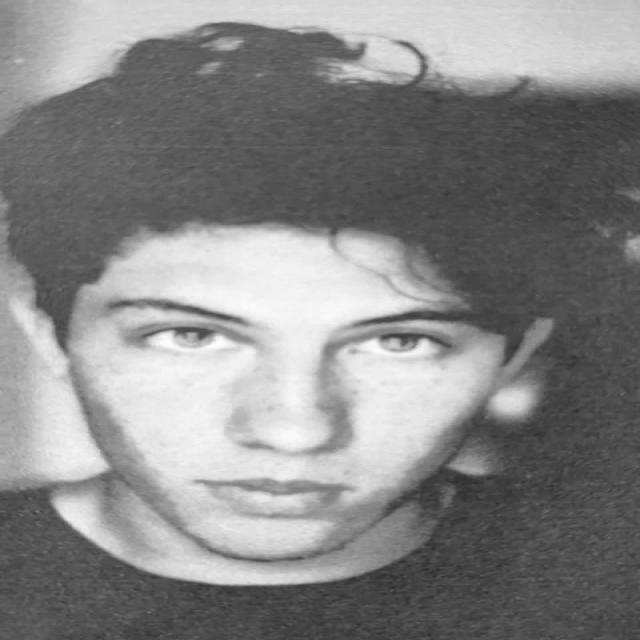fake: (64, 224, 500, 563)
